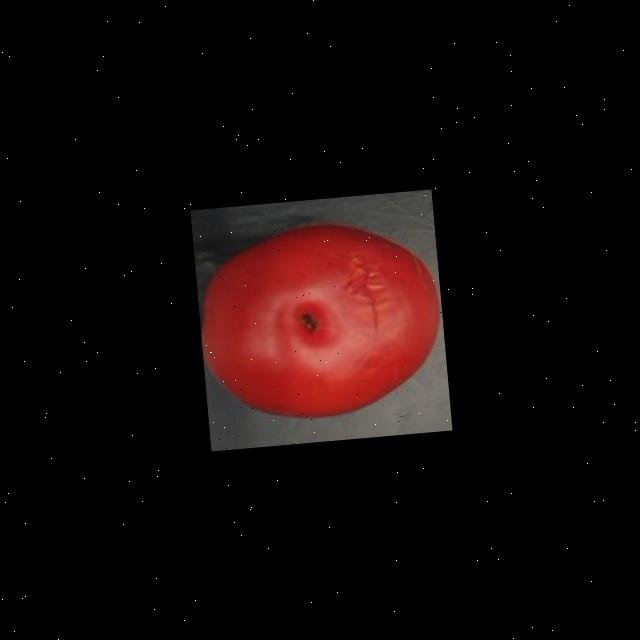tomato: (190, 208, 450, 429)
